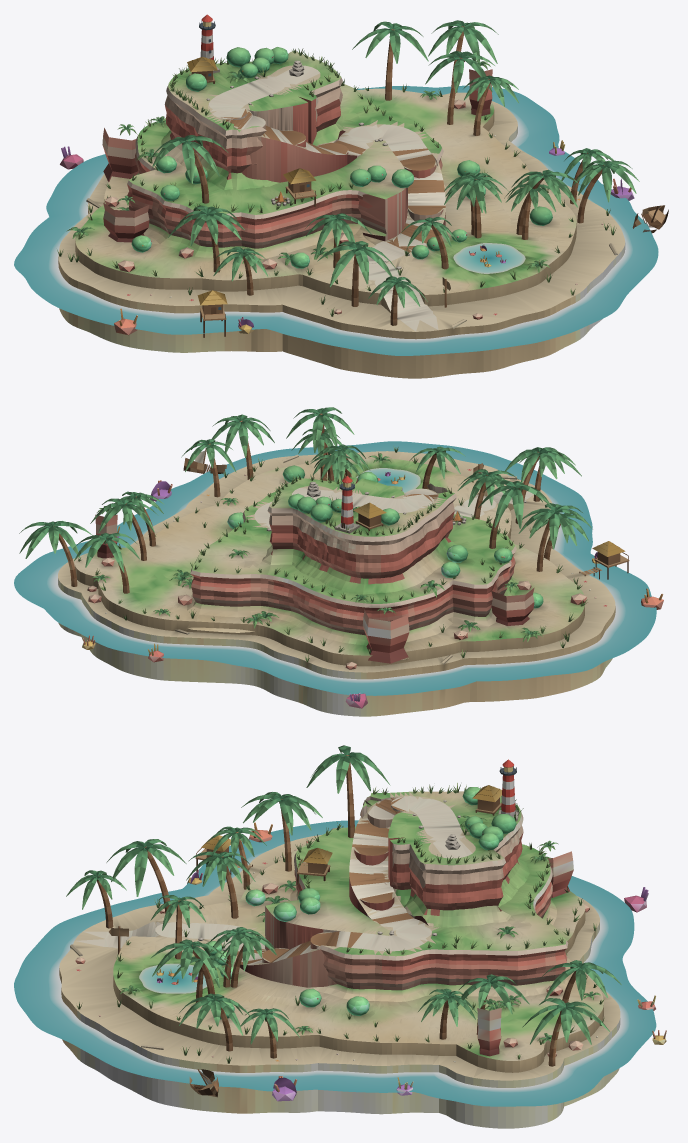
The model's file is ReefIsland.glb.
The picture shows the model from 3 angles, top to bottom: view 1: azimuth 30°, elevation 25°; view 2: azimuth 150°, elevation 25°; view 3: azimuth 270°, elevation 25°; orthographic projection. The views are drawn at different scales.
Visible parts, largest first — view 1: Lit, Unlit, Soft; view 2: Lit, Unlit, Soft; view 3: Lit, Unlit, Soft.
Part boxes in pixels (bbox=[...]): Lit: bbox=[57, 14, 668, 378]; Unlit: bbox=[14, 22, 658, 355]; Soft: bbox=[131, 47, 552, 268]; Lit: bbox=[19, 407, 663, 716]; Unlit: bbox=[14, 441, 656, 695]; Soft: bbox=[227, 465, 543, 608]; Lit: bbox=[59, 745, 666, 1128]; Unlit: bbox=[14, 767, 656, 1106]; Soft: bbox=[205, 787, 516, 1019].
Size of the model in its own units: 6.26 by 2.24 by 6.1.
